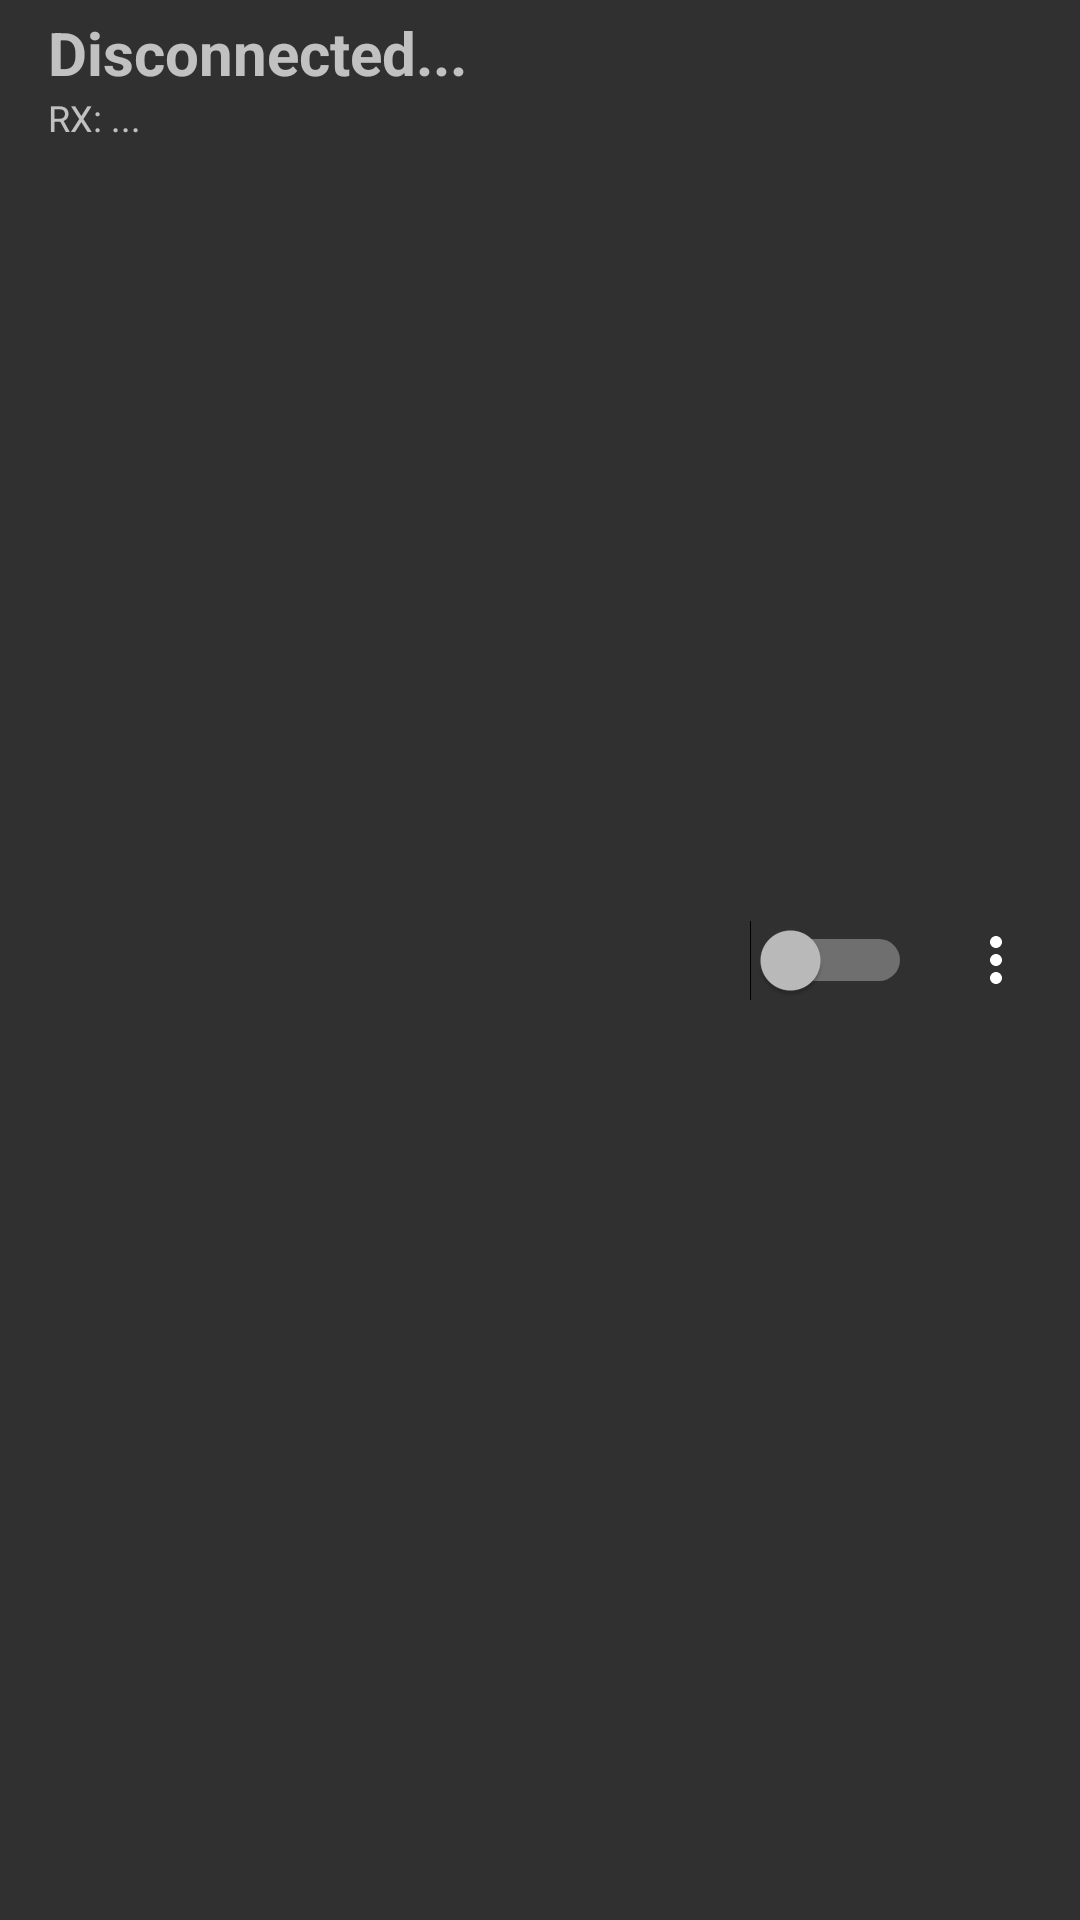

Point at icon controls on the screen. Image size 1080x1920, points as point (x, y).
Menu Options: point (996, 960)
